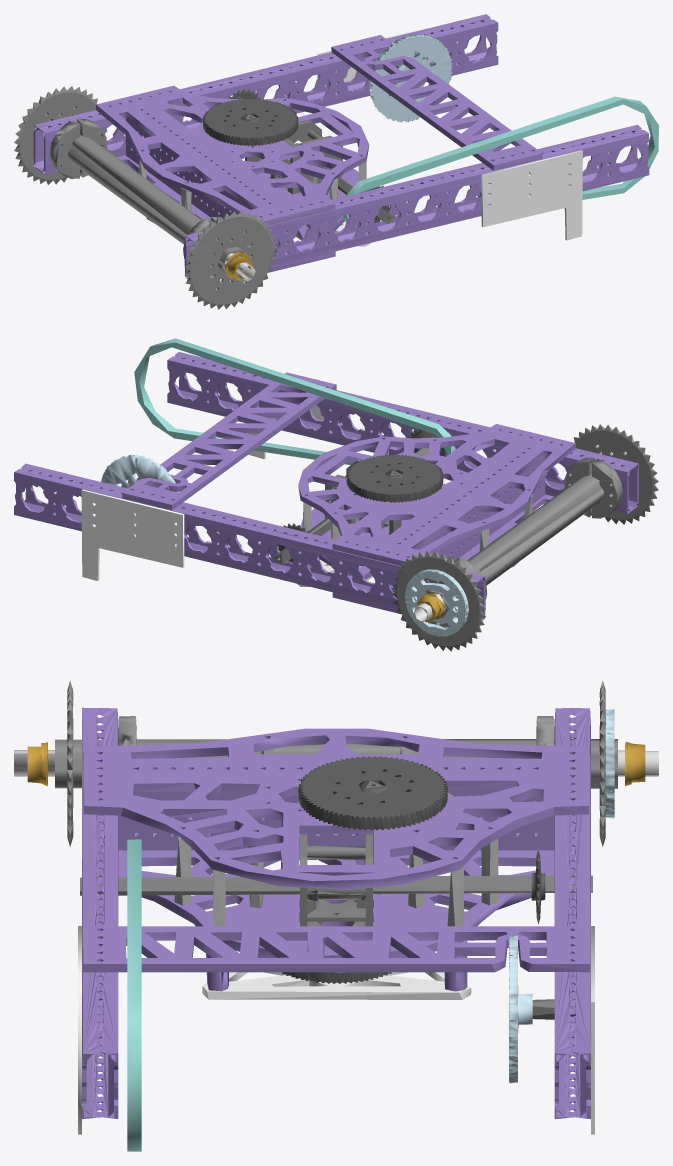
Rendered from Arm.dae.
3 renders of one model, top to bottom at view 1: azimuth 30°, elevation 25°; view 2: azimuth 150°, elevation 25°; view 3: azimuth 270°, elevation 25°, orthographic. The views are drawn at different scales.
Visible parts, largest first — view 1: Arm; view 2: Arm; view 3: Arm.
Boxes of the visible parts, bbox=[...] form: Arm: bbox=[14, 14, 658, 309]; Arm: bbox=[14, 338, 658, 651]; Arm: bbox=[14, 680, 658, 1151].
Bounding box in the file's own units: 0.6233 × 0.4509 × 0.1364.
